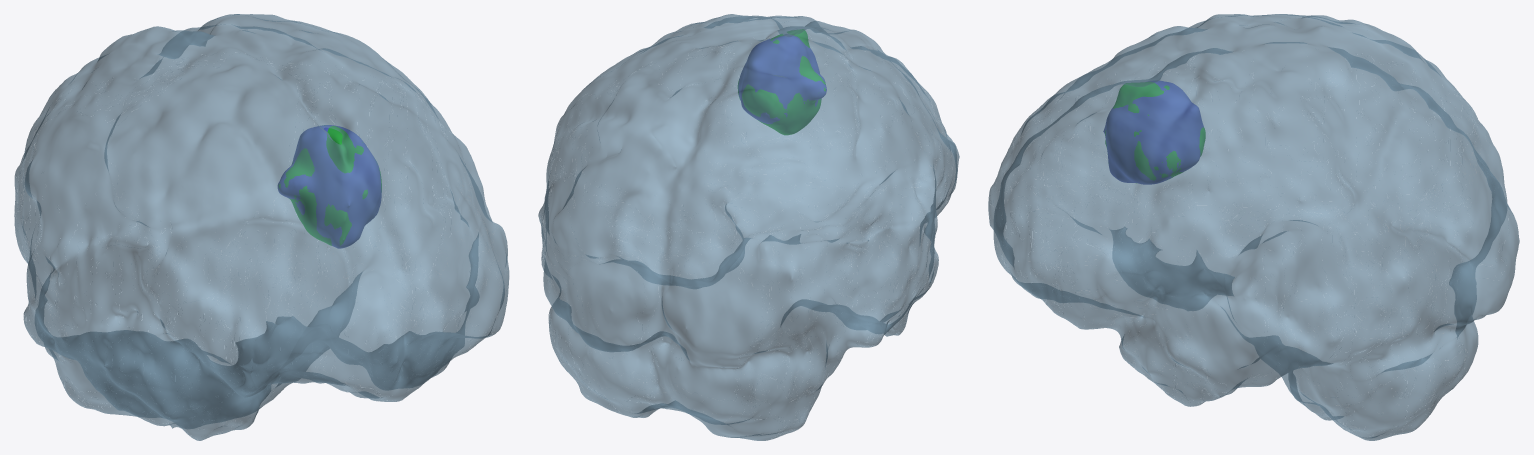
Rendered from mri-brain-tumor-transformed.glb.
3 views of the same model, side by side, from view 1: azimuth 30°, elevation 25°; view 2: azimuth 150°, elevation 25°; view 3: azimuth 270°, elevation 25° (orthographic). The views are drawn at different scales.
Parts seen in each view (by area): view 1: Object_4, Object_5, Object_3, Object_2; view 2: Object_4, Object_5, Object_3, Object_2; view 3: Object_4, Object_5, Object_3, Object_2.
Boxes of the visible parts, <box> form: Object_4: <box>14,14,509,440</box>; Object_5: <box>14,53,509,440</box>; Object_3: <box>277,125,381,248</box>; Object_2: <box>278,125,381,245</box>; Object_4: <box>540,14,959,438</box>; Object_5: <box>538,36,958,440</box>; Object_3: <box>738,36,826,123</box>; Object_2: <box>737,29,825,135</box>; Object_4: <box>988,14,1509,440</box>; Object_5: <box>989,48,1519,440</box>; Object_3: <box>1103,80,1203,184</box>; Object_2: <box>1105,82,1205,183</box>.
Bounding box in the file's own units: 139 × 134 × 174.
